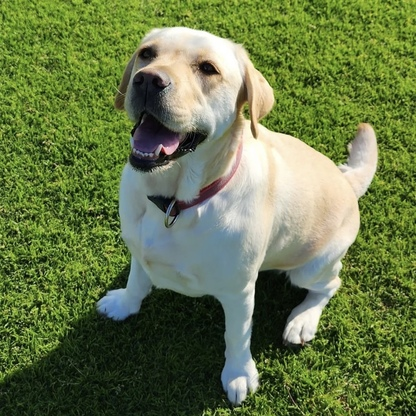labrado: (88, 20, 384, 408)
